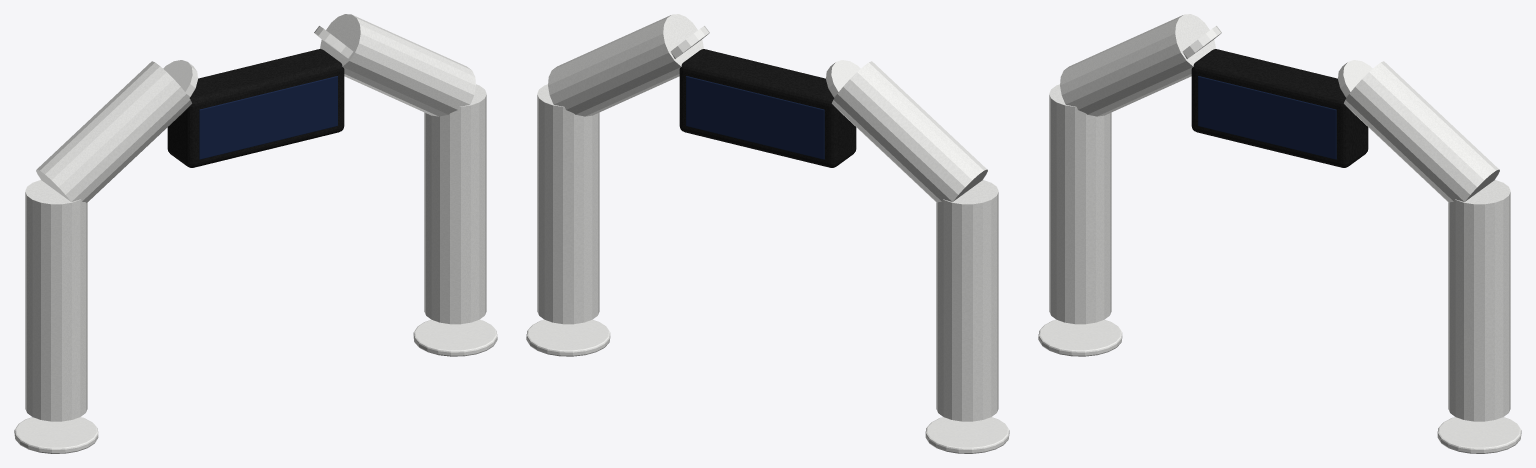
File: arch_white_blank.dae
3 renders of one model, left to right at view 1: azimuth 30°, elevation 25°; view 2: azimuth 150°, elevation 25°; view 3: azimuth 330°, elevation 25°, orthographic.
Visible parts, largest first — view 1: arch_leg_L, arch_leg_R, arch_arm_L, arch_arm_R, arch_block, arch_logo_plate_0, arch_foot_L, arch_foot_R, arch_conn_L; view 2: arch_leg_L, arch_leg_R, arch_arm_L, arch_arm_R, arch_block, arch_logo_plate_1, arch_foot_L, arch_foot_R, arch_conn_L; view 3: arch_leg_R, arch_leg_L, arch_arm_R, arch_arm_L, arch_block, arch_logo_plate_0, arch_foot_R, arch_foot_L, arch_conn_R.
Part boxes in pixels (<box>): arch_leg_L: <box>25,180,87,421</box>; arch_leg_R: <box>424,84,486,324</box>; arch_arm_L: <box>36,61,191,202</box>; arch_arm_R: <box>320,14,475,116</box>; arch_block: <box>167,49,344,167</box>; arch_logo_plate_0: <box>199,76,337,159</box>; arch_foot_L: <box>14,417,98,453</box>; arch_foot_R: <box>413,319,497,356</box>; arch_conn_L: <box>163,60,197,97</box>; arch_leg_L: <box>936,180,998,421</box>; arch_leg_R: <box>537,84,599,324</box>; arch_arm_L: <box>832,61,987,202</box>; arch_arm_R: <box>548,14,703,116</box>; arch_block: <box>679,49,856,167</box>; arch_logo_plate_1: <box>686,76,824,159</box>; arch_foot_L: <box>925,417,1009,453</box>; arch_foot_R: <box>526,319,610,356</box>; arch_conn_L: <box>826,60,860,97</box>; arch_leg_R: <box>1448,180,1510,421</box>; arch_leg_L: <box>1049,84,1111,324</box>; arch_arm_R: <box>1344,61,1499,202</box>; arch_arm_L: <box>1060,14,1215,116</box>; arch_block: <box>1191,49,1368,167</box>; arch_logo_plate_0: <box>1198,76,1336,159</box>; arch_foot_R: <box>1437,417,1521,453</box>; arch_foot_L: <box>1038,319,1122,356</box>; arch_conn_R: <box>1338,60,1372,97</box>.
Size of the model in its own units: 9.59 by 1.49 by 6.75.
3 materials, 3 textured.
